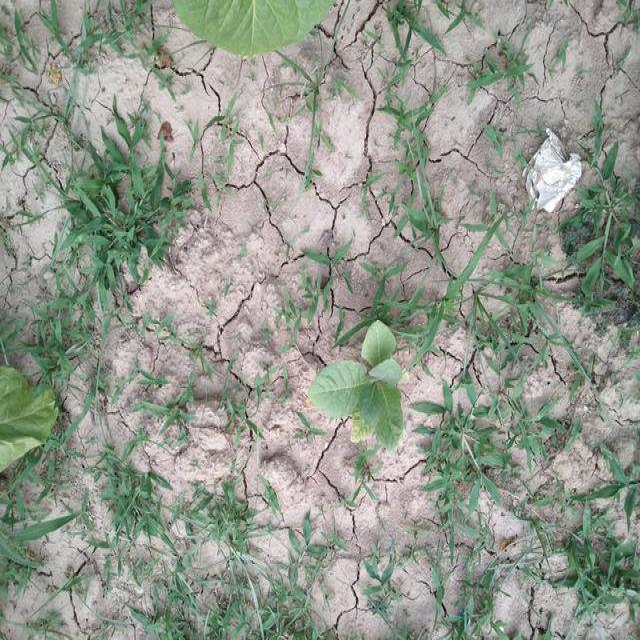crop: (311, 323, 406, 450), (175, 1, 338, 54), (2, 362, 58, 469)
